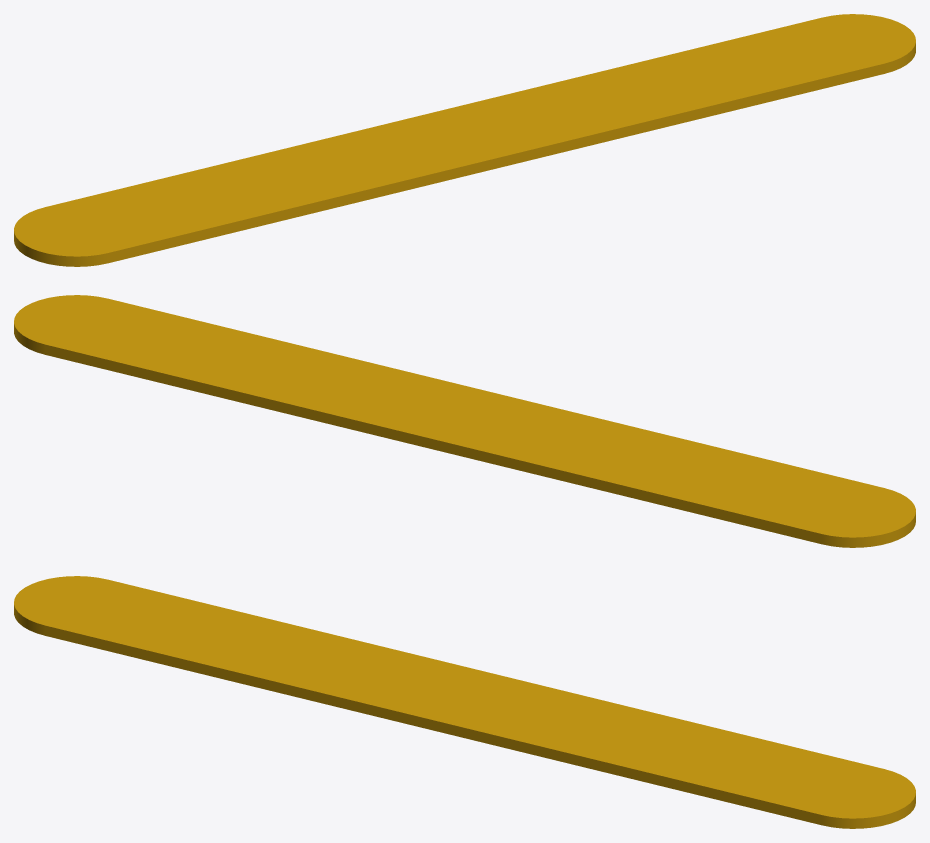
File: basiclink.dae
3 views of the same model, one above another, from view 1: azimuth 30°, elevation 25°; view 2: azimuth 150°, elevation 25°; view 3: azimuth 330°, elevation 25° (orthographic).
Parts seen in each view (by area): view 1: ID2; view 2: ID2; view 3: ID2.
Part boxes in pixels (x1,y1,x2,y2): ID2: (14,14,915,266); ID2: (14,295,915,547); ID2: (14,576,915,828).
Bounding box in the file's own units: 0.5698 × 0.07 × 0.00635.
